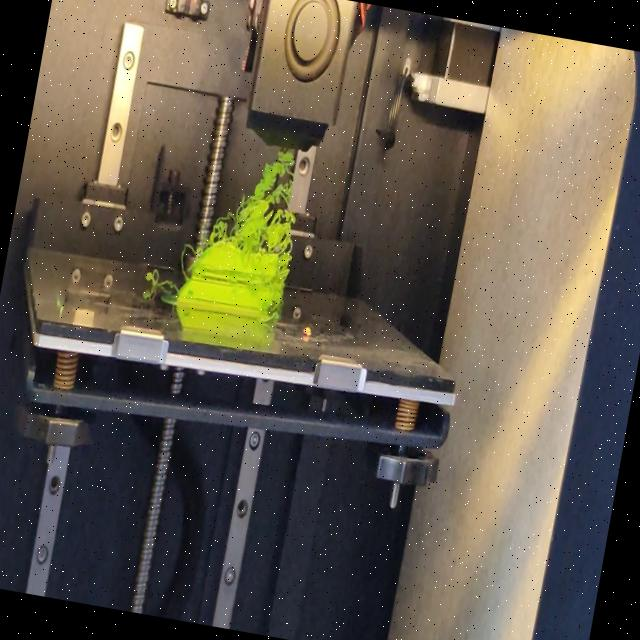spaghetti: (206, 142, 310, 262), (264, 254, 290, 323), (140, 266, 182, 296), (176, 239, 197, 280)
